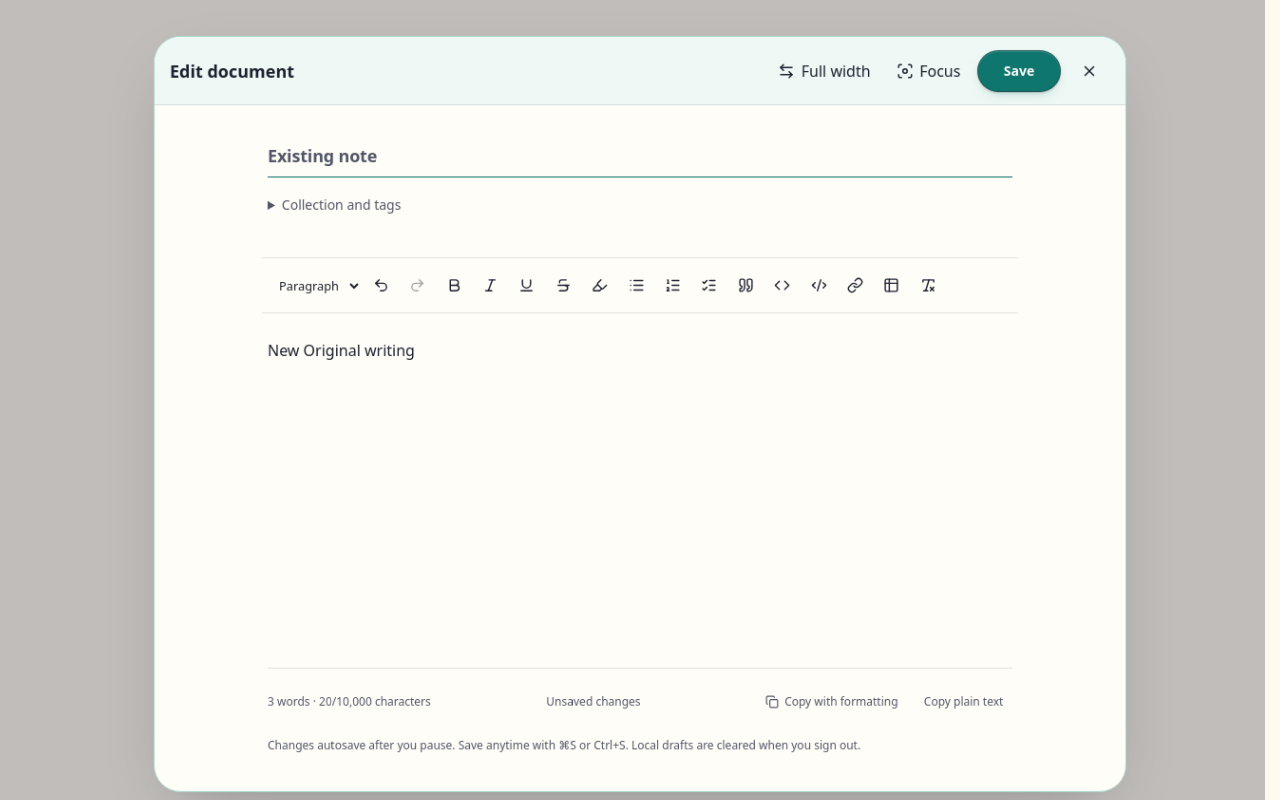
Test: NoteEditorDialog › preserves unsaved edits and undo history across width changes and saving
Check: the element with class "entry-writing-actions" is shown, box [769,50,1110,92]
Click the button "Full width".
click(824, 71)  # box [769,50,880,92]
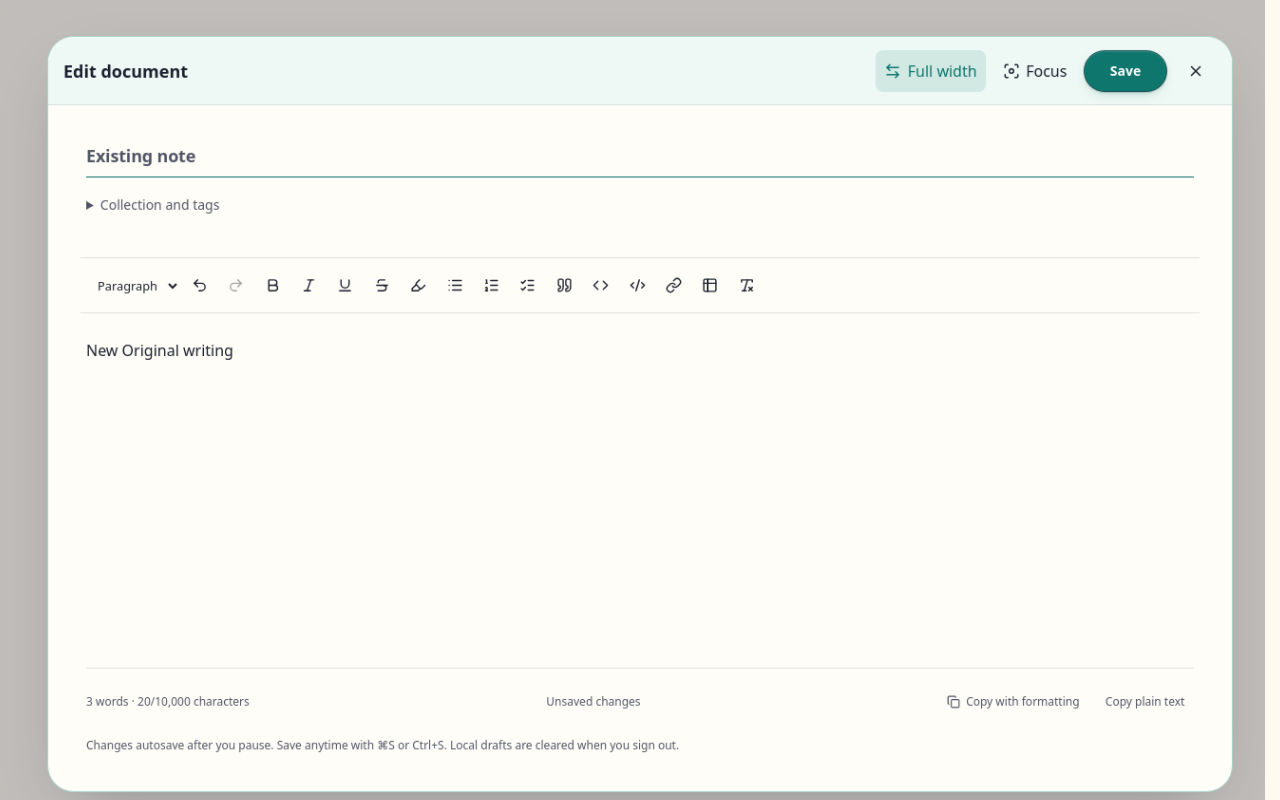
Check: the text "Unsaved changes" is shown, box [546,693,641,710]
Submit the form
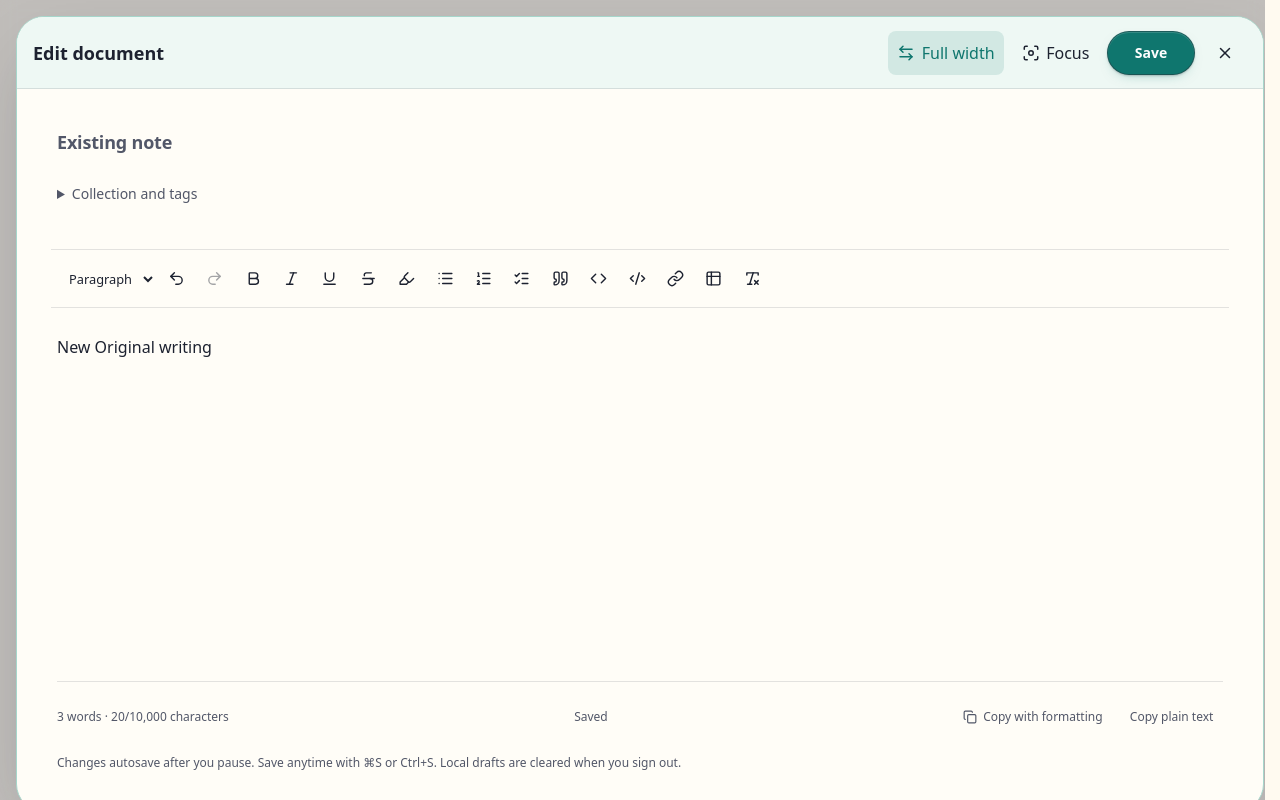
Check: the text "Saved" is shown, box [574,708,608,726]
Check: the element with class "entry-writing-dialog-wide" is shown
Click the button "Full width".
click(946, 53)  # box [888,31,1004,75]
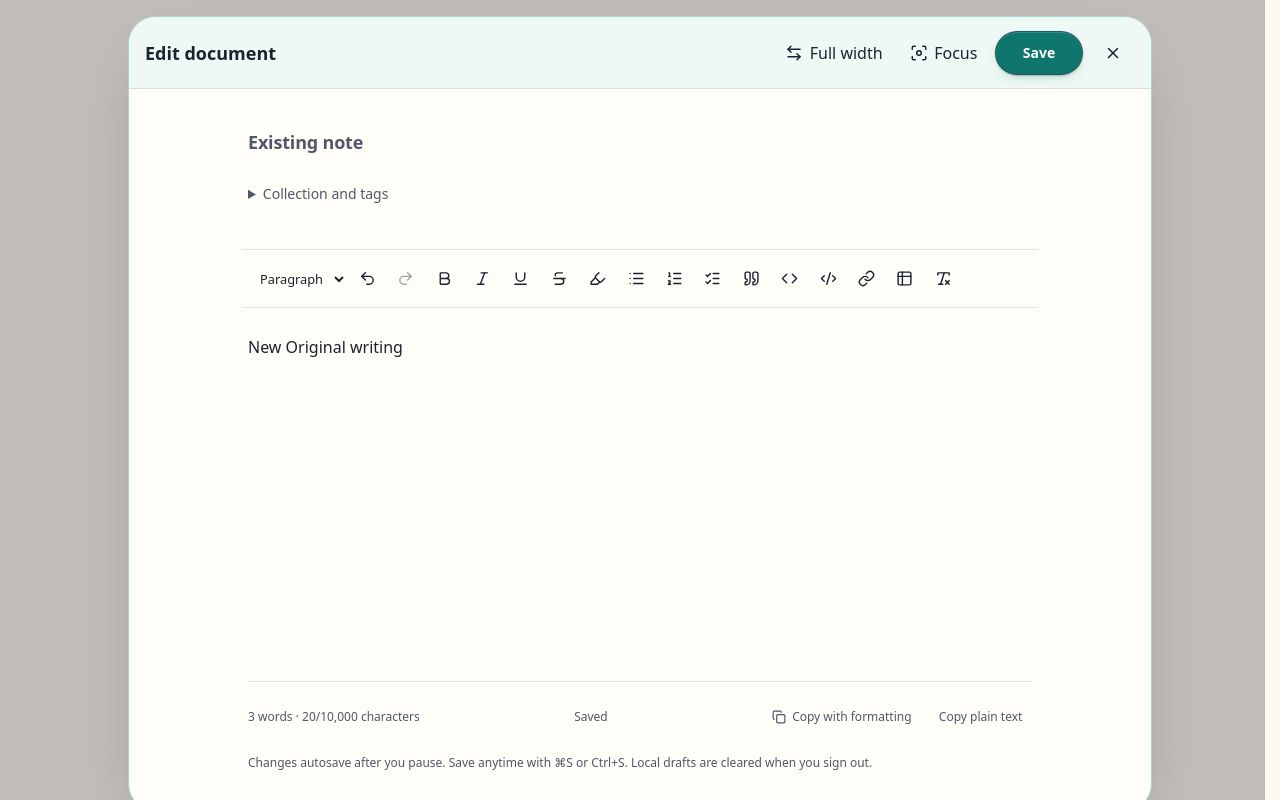
Click the button named "Undo".
click(367, 279)  # box [349,259,385,299]
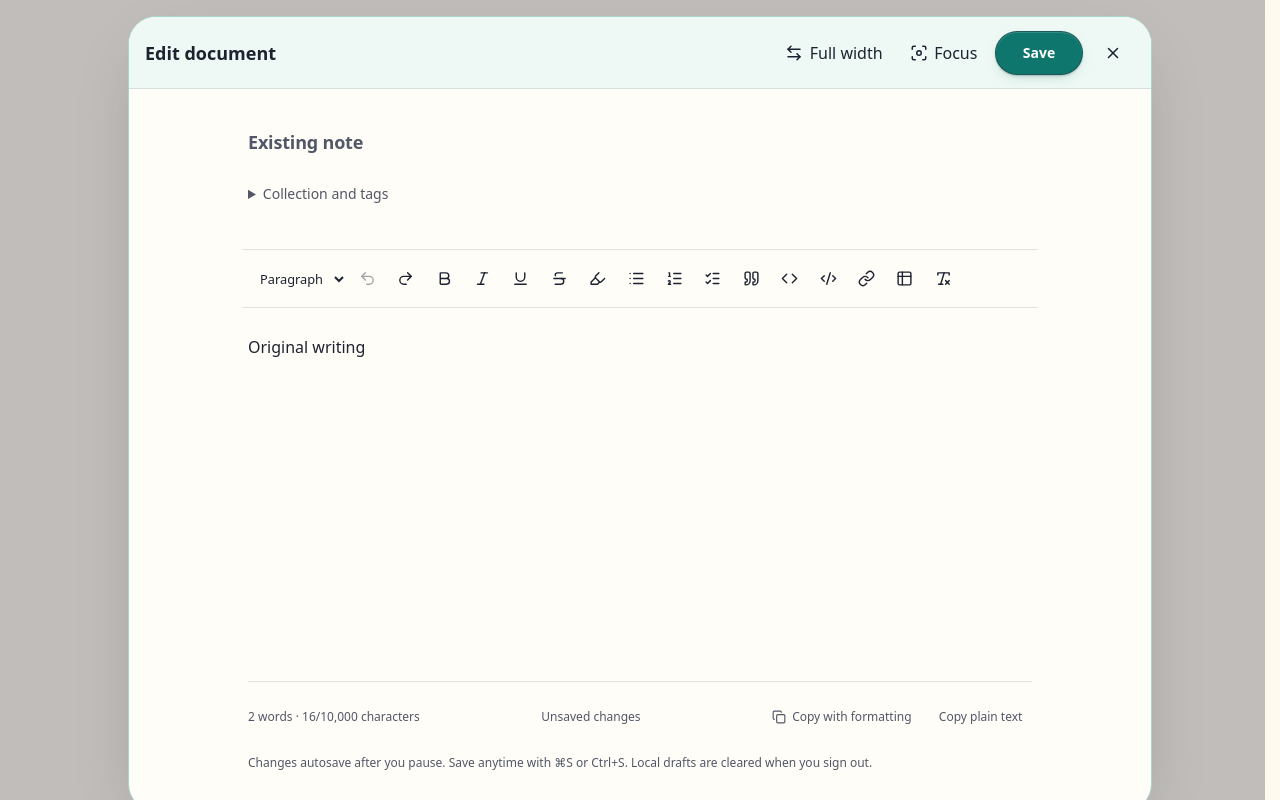
Check: the text "Unsaved changes" is shown, box [541,708,641,726]
